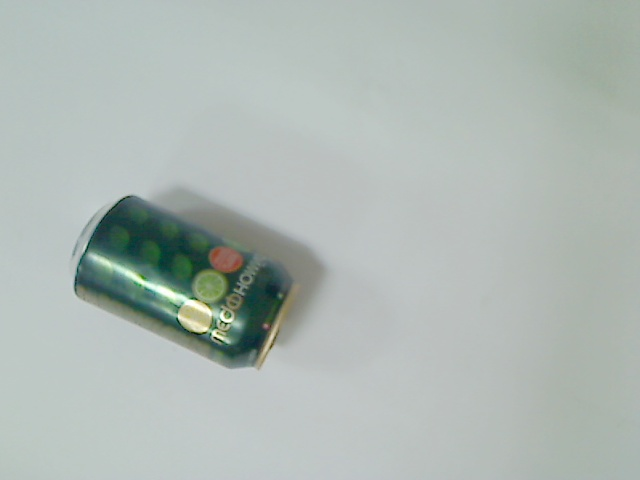can: (66, 191, 305, 375)
